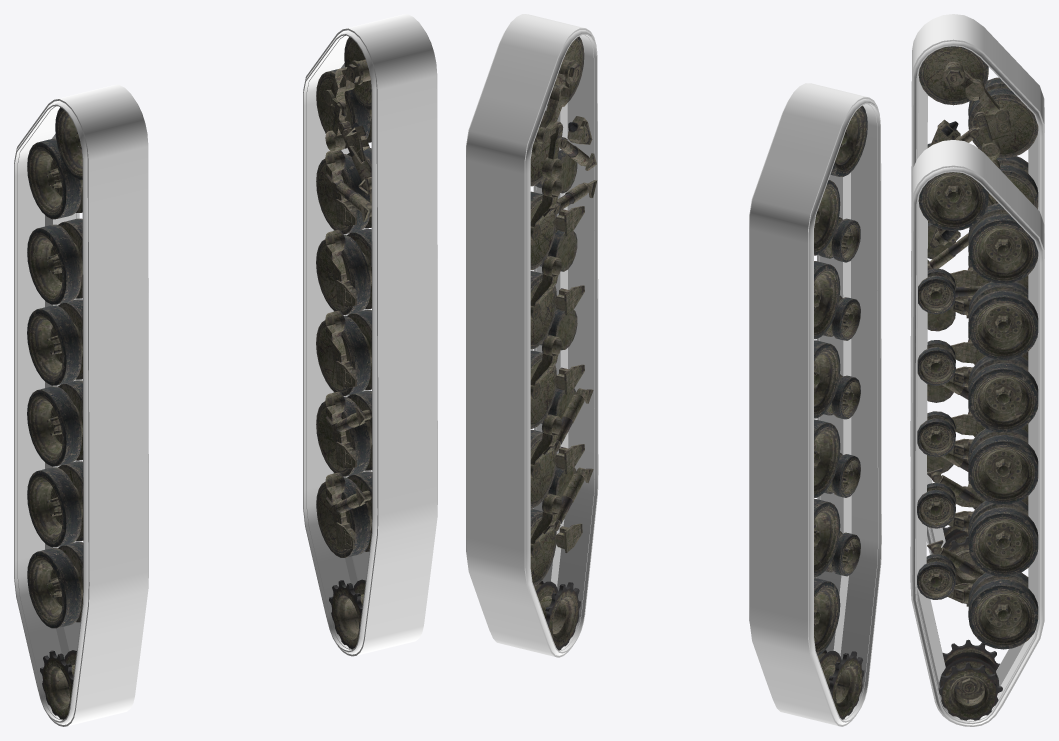
The model's file is Chassis.glb.
3 renders of one model, left to right at view 1: azimuth 30°, elevation 25°; view 2: azimuth 150°, elevation 25°; view 3: azimuth 270°, elevation 25°, orthographic. The views are drawn at different scales.
Visible parts, largest first — view 1: set_0_group_0, set_1_group_0, set_3_group_0, set_2_group_0; view 2: set_0_group_0, set_1_group_0, set_3_group_0, set_2_group_0; view 3: set_3_group_0, set_1_group_0, set_2_group_0, set_0_group_0.
Boxes of the visible parts, box(x1,y1,x2,y2) form: set_0_group_0: box(14, 84, 148, 726); set_1_group_0: box(303, 14, 437, 656); set_3_group_0: box(316, 37, 372, 649); set_2_group_0: box(27, 107, 83, 719); set_0_group_0: box(749, 83, 881, 726); set_1_group_0: box(466, 14, 598, 657); set_3_group_0: box(530, 36, 597, 650); set_2_group_0: box(814, 105, 867, 719); set_3_group_0: box(917, 172, 1038, 720); set_1_group_0: box(910, 140, 1044, 726); set_2_group_0: box(918, 46, 1038, 584); set_0_group_0: box(910, 14, 1044, 554).
Bounding box in the file's own units: 3.42 × 5.81 × 1.26.
Materials: 4 (2 with a texture image).
